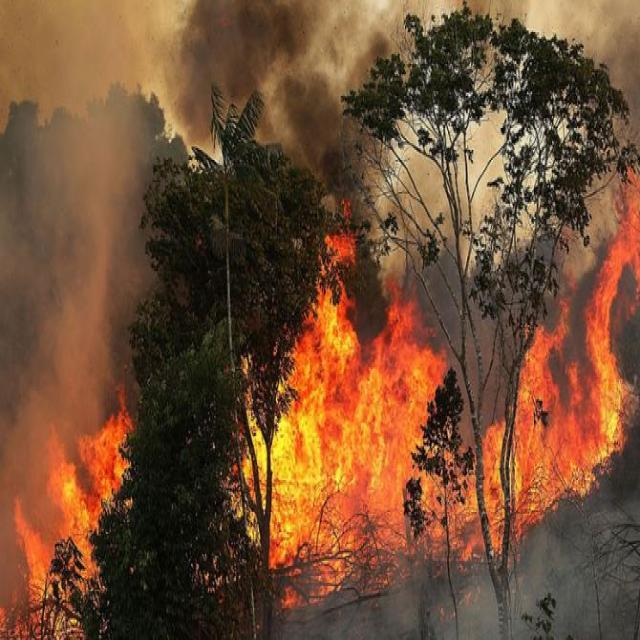Fire: (272, 322, 422, 545), (518, 334, 614, 496)
